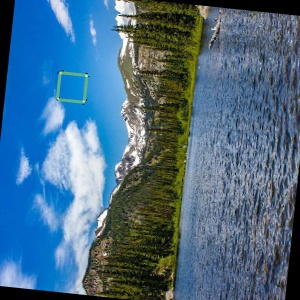square: (53, 69, 90, 105)
